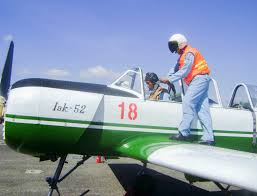maybay_dansu: (2, 57, 257, 196)
